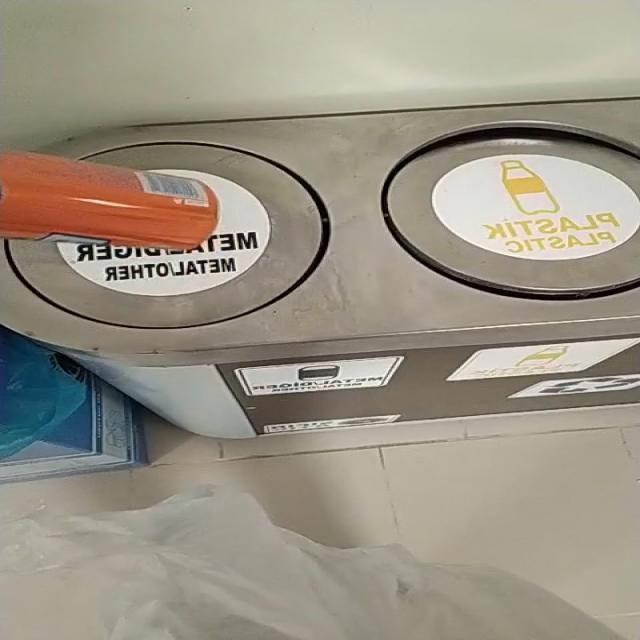Bin: (0, 99, 640, 438)
